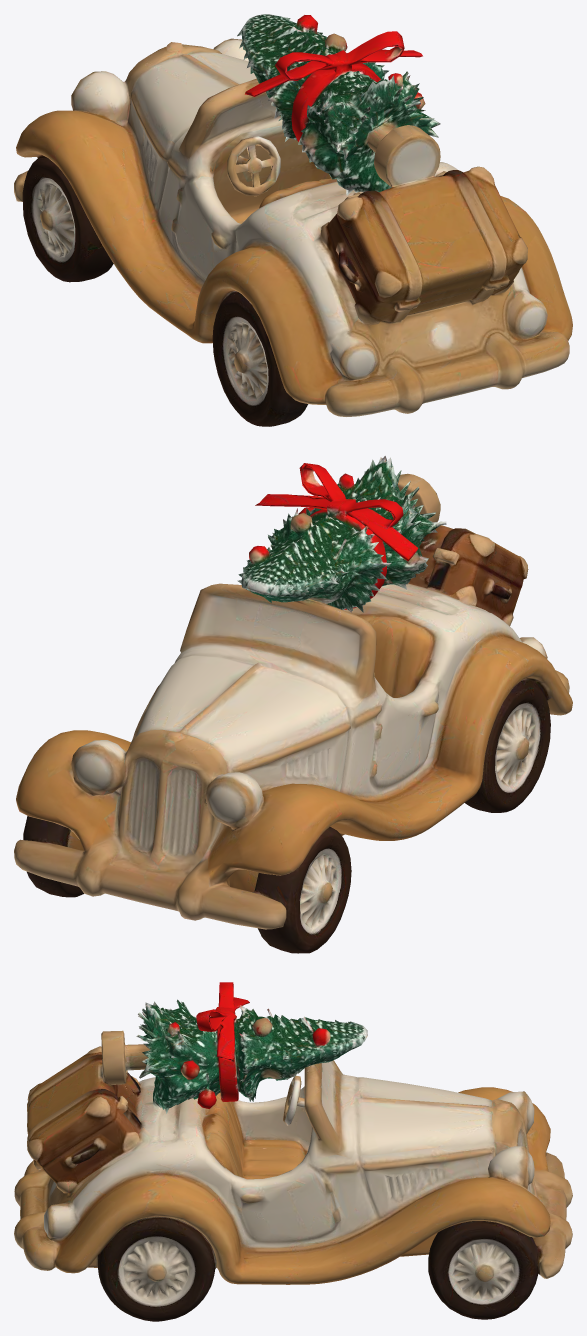
The model's file is car.glb.
3 views of the same model, one above another, from view 1: azimuth 30°, elevation 25°; view 2: azimuth 150°, elevation 25°; view 3: azimuth 270°, elevation 25° (orthographic). The views are drawn at different scales.
Size of the model in its own units: 0.9998 by 1.08 by 2.
1 material, 1 textured.
